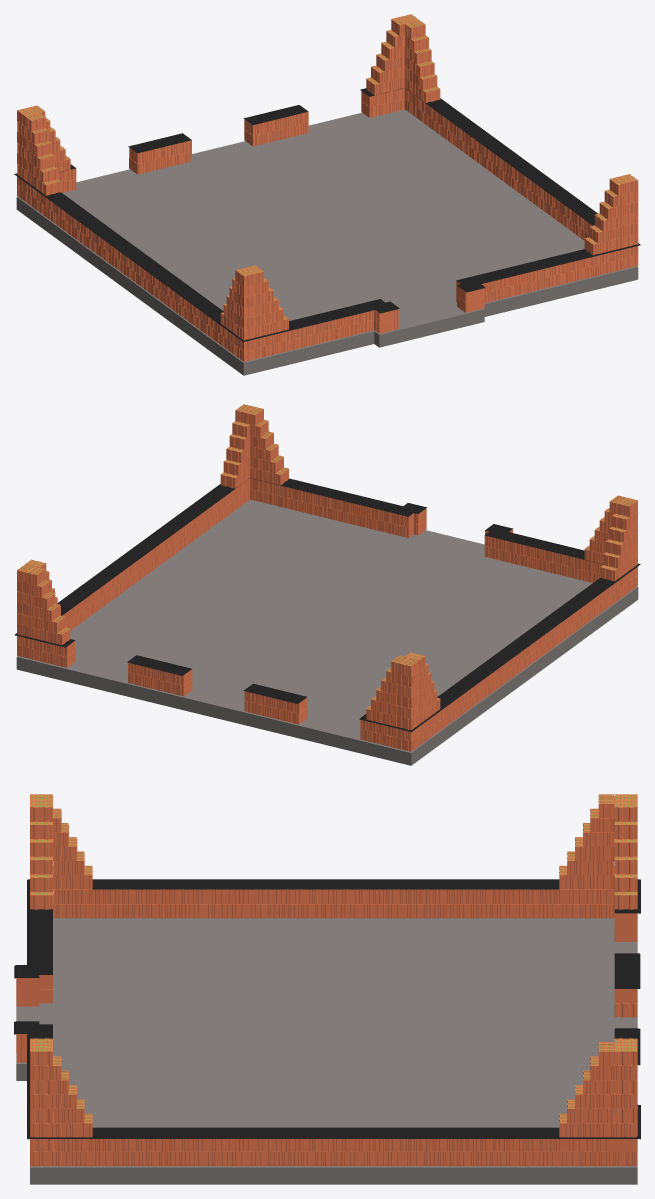
File: Haus.fbx
The picture shows the model from 3 angles, top to bottom: view 1: azimuth 30°, elevation 25°; view 2: azimuth 150°, elevation 25°; view 3: azimuth 270°, elevation 25°; orthographic projection. The views are drawn at different scales.
Parts seen in each view (by area): view 1: Bodenplatte.001, Außenziegel template.052; view 2: Bodenplatte.001, Außenziegel template.052; view 3: Bodenplatte.001, Außenziegel template.052.
Boxes of the visible parts, x1,y1,x2,y2 form: Bodenplatte.001: [16, 109, 638, 375]; Außenziegel template.052: [14, 14, 640, 361]; Bodenplatte.001: [16, 499, 638, 765]; Außenziegel template.052: [14, 404, 640, 751]; Bodenplatte.001: [16, 918, 637, 1184]; Außenziegel template.052: [14, 794, 640, 1166].
Bounding box in the file's own units: 981 × 234 × 1001.
